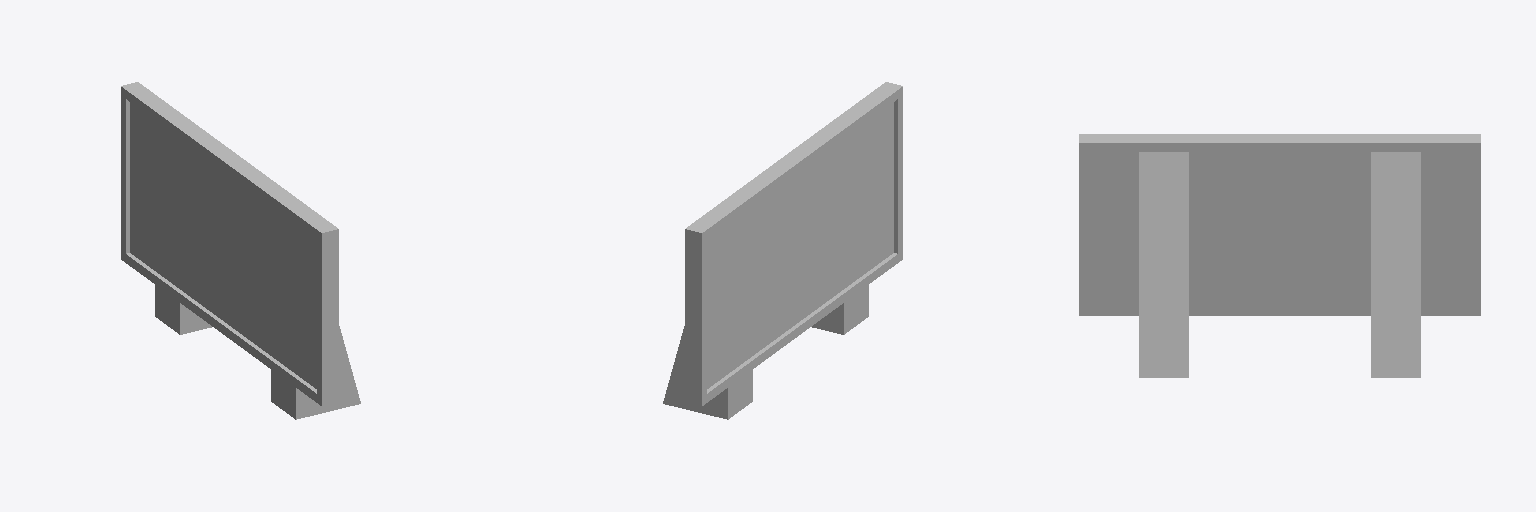
The model's file is worldtile45.obj.
The picture shows the model from 3 angles: view 1: azimuth 30°, elevation 25°; view 2: azimuth 150°, elevation 25°; view 3: azimuth 270°, elevation 25°; orthographic projection.
Parts seen in each view (by area): view 1: objRegroup03; view 2: objRegroup03; view 3: objRegroup03.
Part boxes in pixels (x1,y1,x2,y2): objRegroup03: (121,82,360,419); objRegroup03: (663,82,902,419); objRegroup03: (1079,134,1480,377).
Size of the model in its own units: 4 by 11.5 by 20.